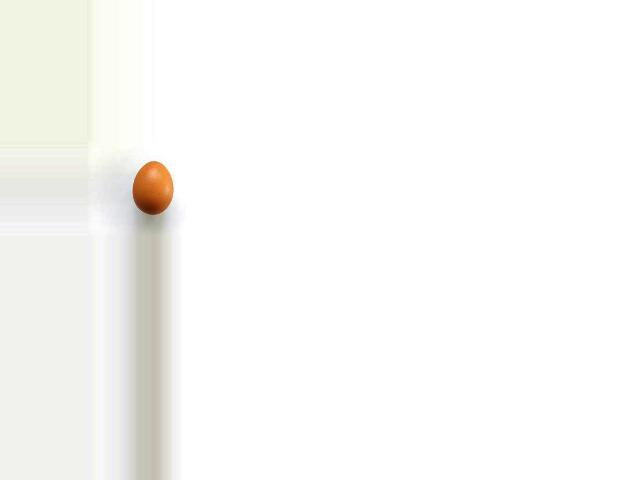egg: (131, 160, 172, 215)
